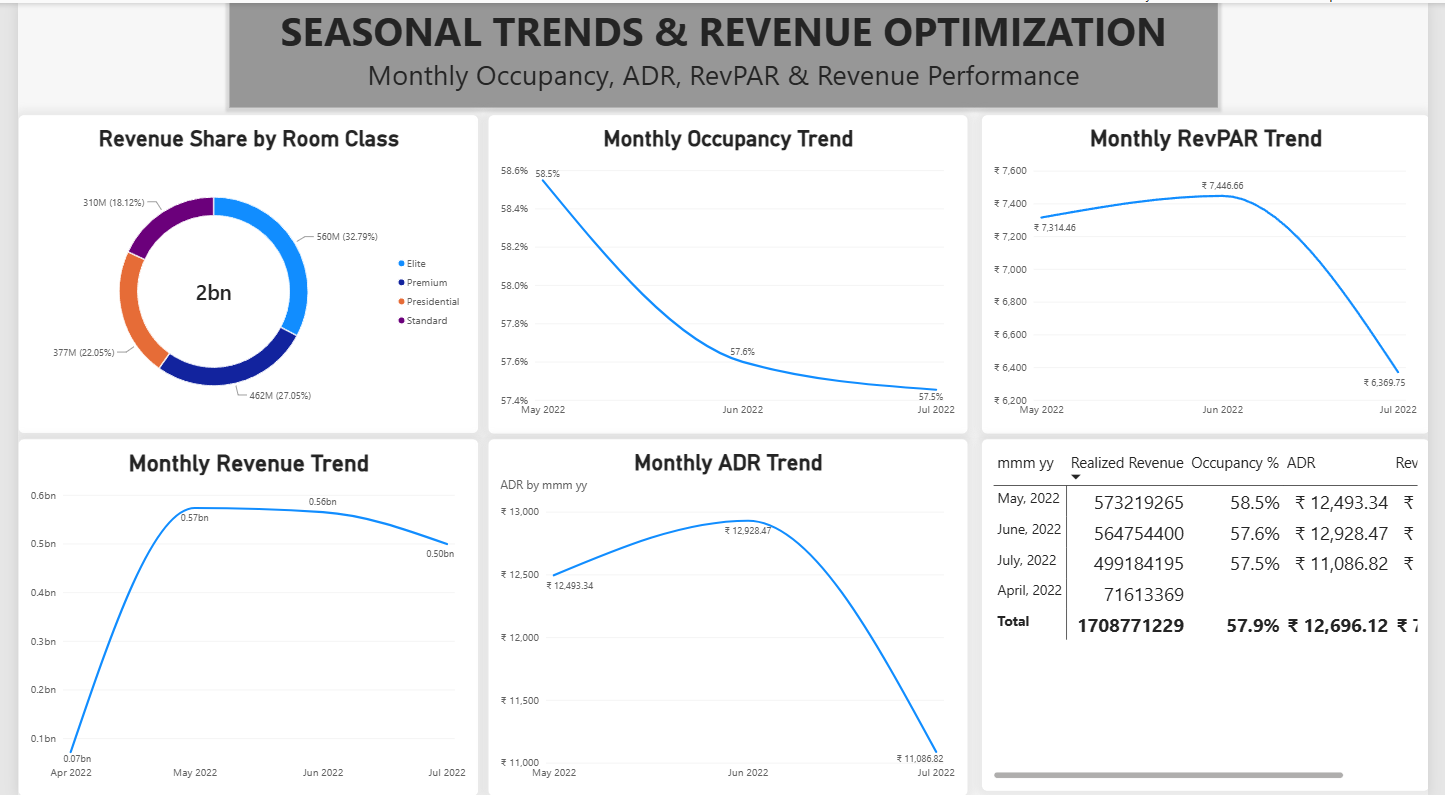

Layout of this report page (visuals, bound fields, positions):
{"tool":"powerbi","page":{"name":"Seasonal Trends and Revenue Optimisation","canvas":[1920,1080],"ordinal":2},"visuals":[{"type":"textbox","box":[287,0,1345.9,142.3],"z":0},{"type":"donutChart","title":"Revenue Share by Room Class","fields":{"Category":["dim_rooms.room_class"],"Y":["fact_bookings.Realized Revenue"]},"box":[0,151.2,627.1,434.1],"z":1000},{"type":"lineChart","title":"Monthly Revenue Trend","fields":{"Category":["dim_date.mmm yy"],"Y":["fact_bookings.Realized Revenue"]},"box":[0,593.3,627.1,487.2],"z":2000},{"type":"lineChart","title":"Monthly Occupancy Trend","fields":{"Category":["dim_date.mmm yy"],"Y":["fact_aggregated_bookings.Occupancy %"]},"box":[640.3,151.2,653.3,434.9],"z":3000},{"type":"lineChart","title":"Monthly ADR Trend","fields":{"Category":["dim_date.mmm yy"],"Y":["fact_bookings.ADR"]},"box":[640.3,593.6,653.3,487.2],"z":4000},{"type":"lineChart","title":"Monthly RevPAR Trend","fields":{"Category":["dim_date.mmm yy"],"Y":["fact_bookings.RevPAR"]},"box":[1310.4,151.2,610.4,434.9],"z":5000},{"type":"pivotTable","fields":{"Rows":["dim_date.mmm yy"],"Values":["fact_bookings.Realized Revenue","fact_aggregated_bookings.Occupancy %","fact_bookings.ADR","fact_bookings.RevPAR"]},"box":[1310.4,593.6,610.4,479.7],"z":6000}]}

Visuals, with their boxes in screenshot pixels (x1, y1, x2, y2), scaled from the page's 1920x1080 canvas onto the 1445x795 screenshot:
textbox: box(216, 0, 1229, 105)
"Revenue Share by Room Class" donutChart: box(0, 111, 472, 431)
"Monthly Revenue Trend" lineChart: box(0, 437, 472, 794)
"Monthly Occupancy Trend" lineChart: box(482, 111, 974, 431)
"Monthly ADR Trend" lineChart: box(482, 437, 974, 794)
"Monthly RevPAR Trend" lineChart: box(986, 111, 1444, 431)
pivotTable - dim_date.mmm yy x fact_bookings.Realized Revenue: box(986, 437, 1444, 790)
